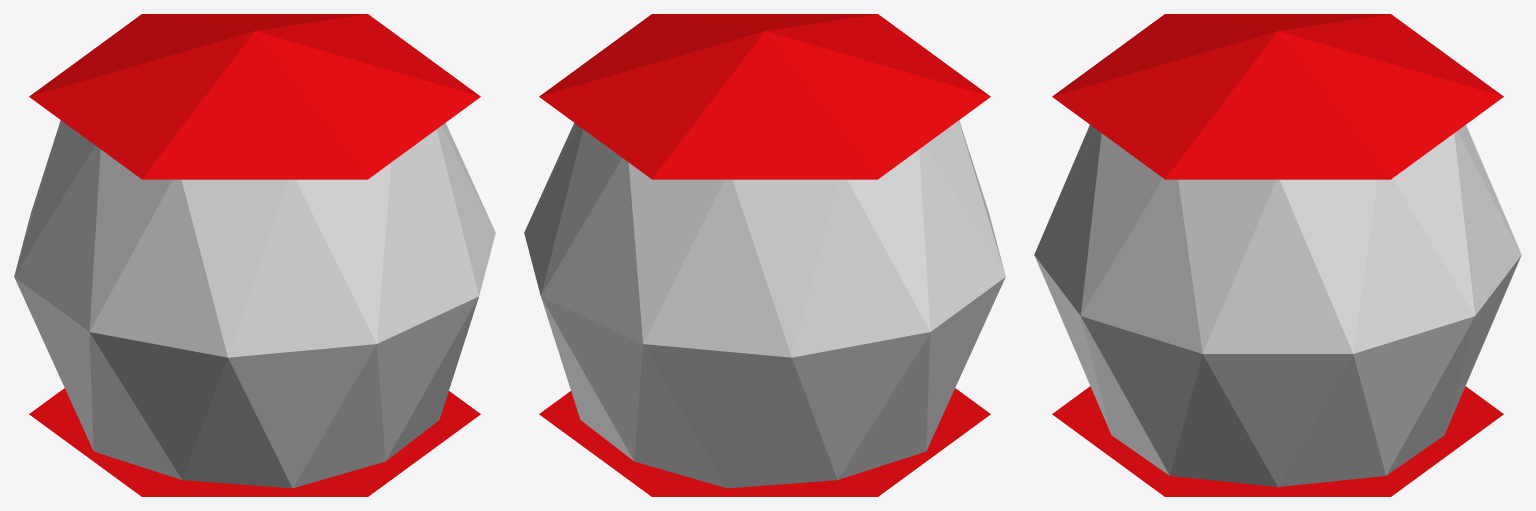
File: ItemBox.glb
3 renders of one model, left to right at view 1: azimuth 30°, elevation 25°; view 2: azimuth 150°, elevation 25°; view 3: azimuth 270°, elevation 25°, orthographic.
Parts seen in each view (by area): view 1: Icosphere; view 2: Icosphere; view 3: Icosphere.
Part boxes in pixels (x1=…): Icosphere: x1=14, y1=14, x2=495, y2=496; Icosphere: x1=524, y1=14, x2=1005, y2=496; Icosphere: x1=1034, y1=14, x2=1521, y2=496.
Size of the model in its own units: 1.31 by 1.39 by 1.37.
